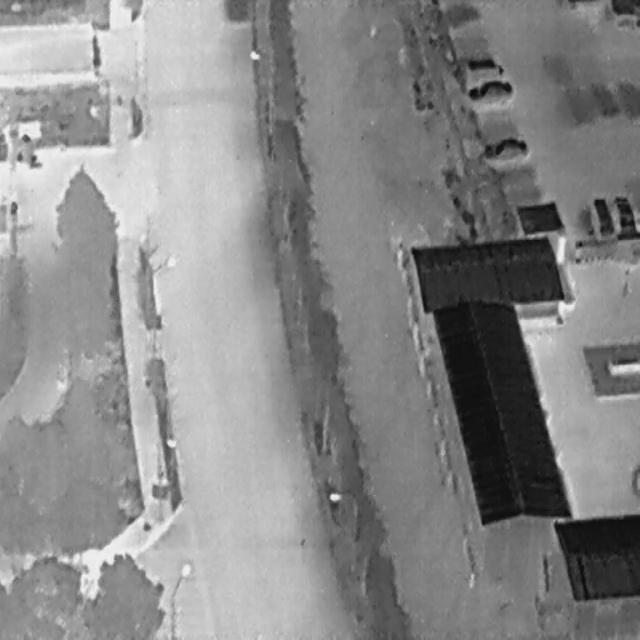Car: (466, 75, 513, 106), (482, 134, 528, 161), (590, 192, 615, 238), (612, 191, 636, 235), (464, 58, 502, 76)
